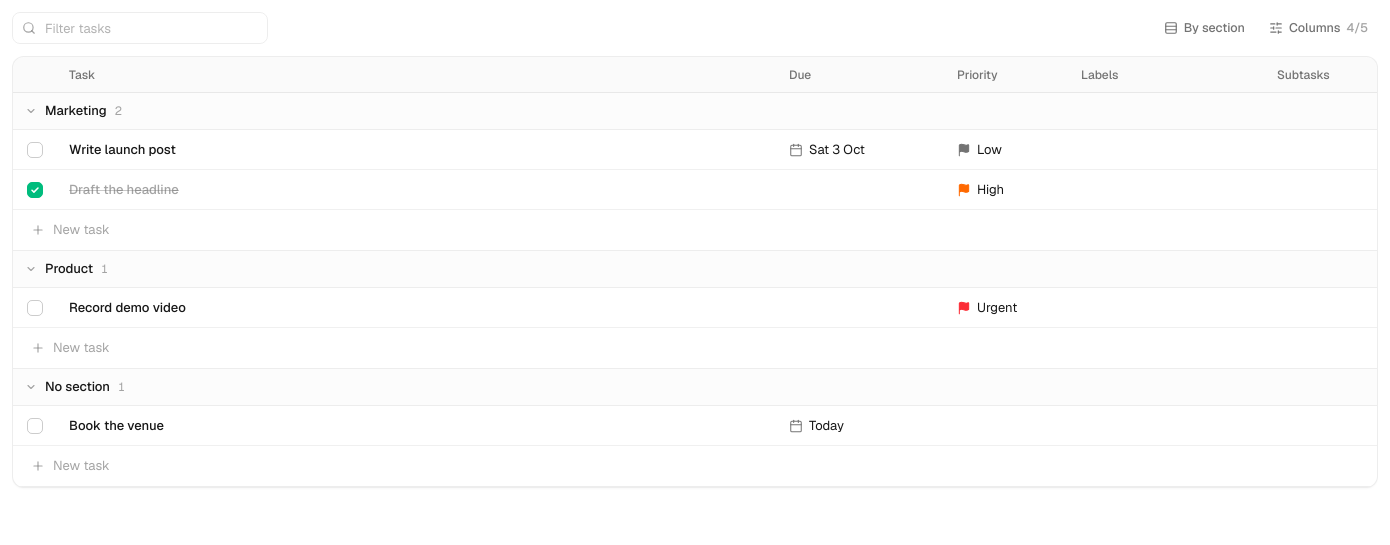
Test: adding › adds a task to the section it was typed in, shown straight away
Click the button "New task" below "Record demo video" at (81, 348), box x1=13 y1=328 x2=1377 y2=368
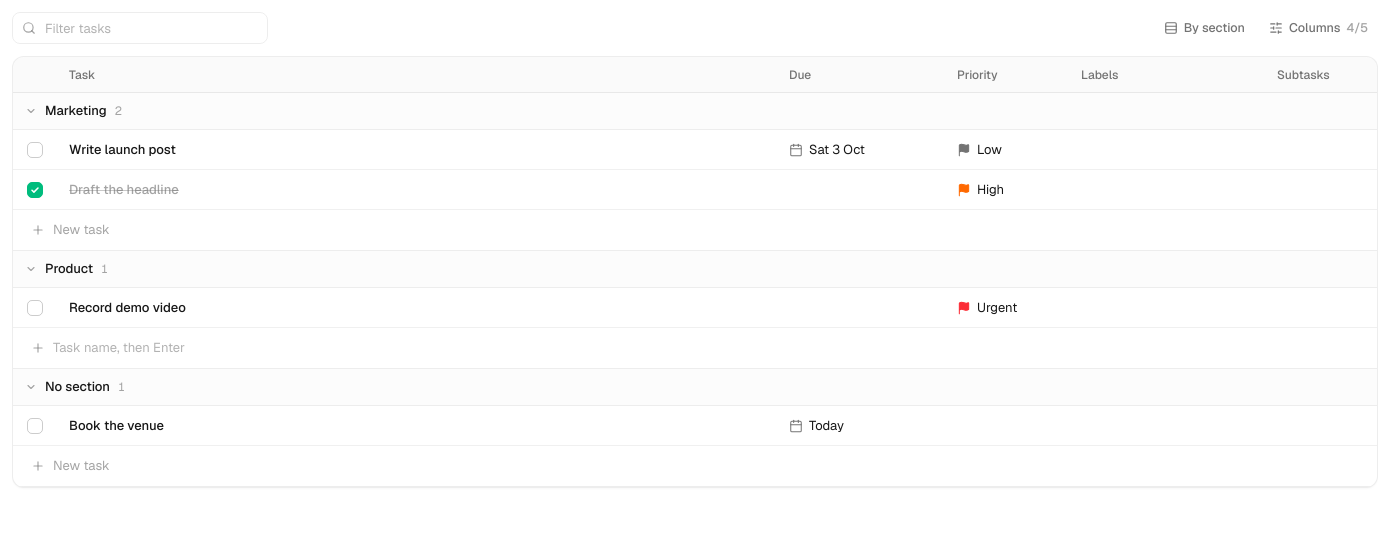
Type "Ship the beta" into the field named "New task" at (709, 348), box x1=53 y1=338 x2=1365 y2=358
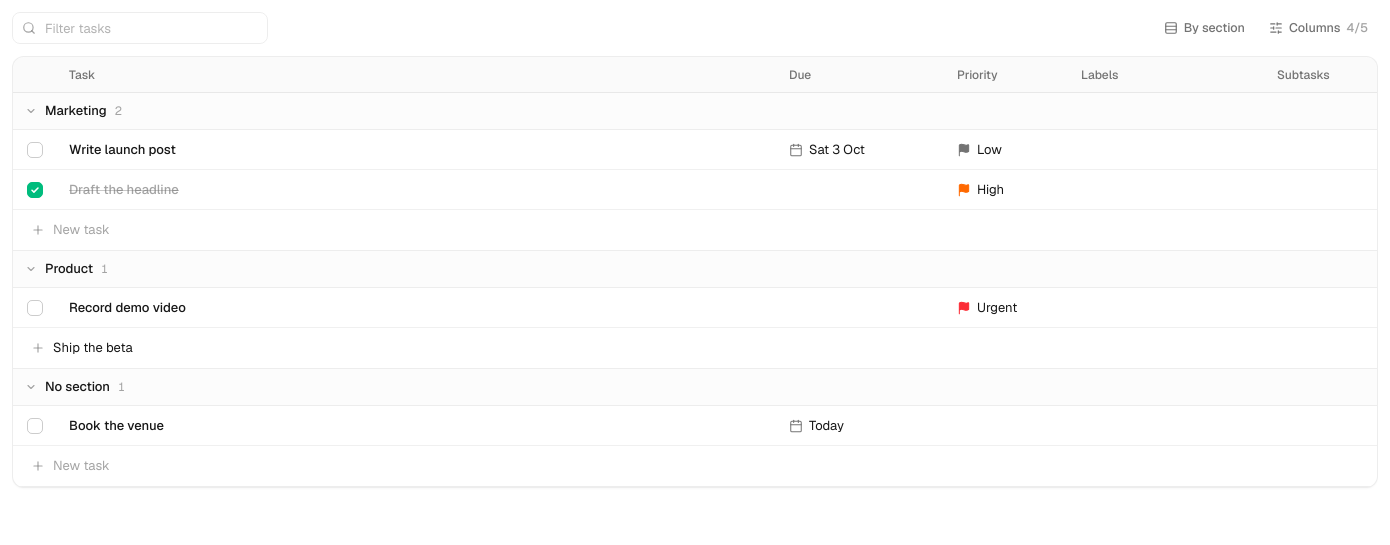
Press Enter in the field named "New task", box x1=53 y1=338 x2=1365 y2=358
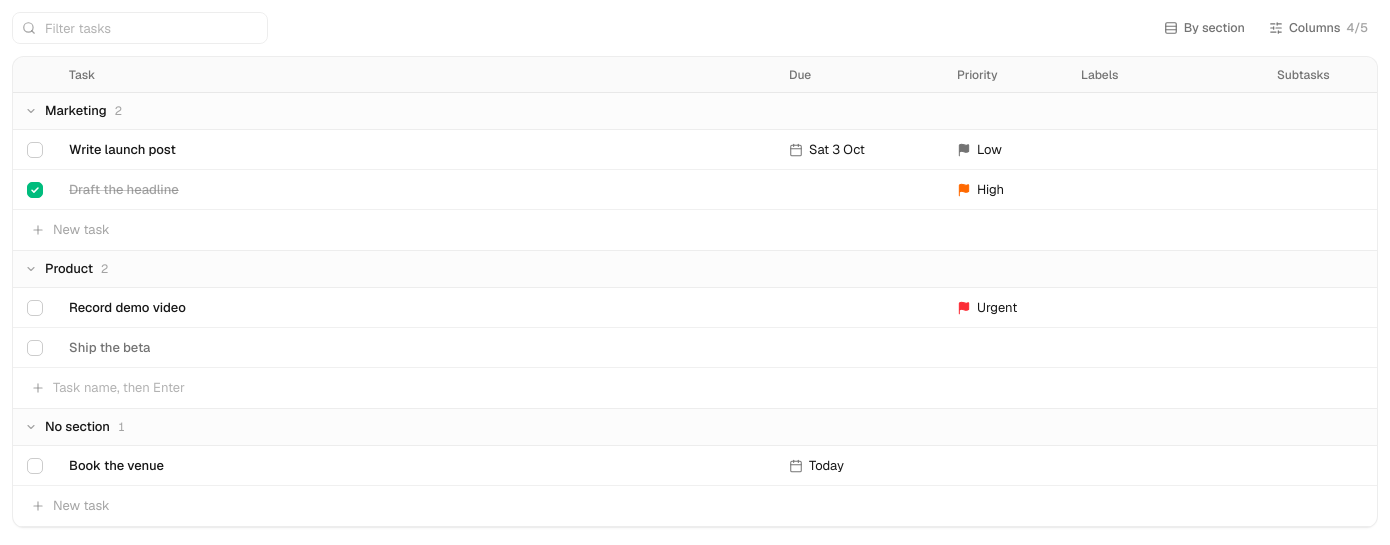
Expected: the text "Ship the beta" is shown, x1=69 y1=339 x2=150 y2=356
